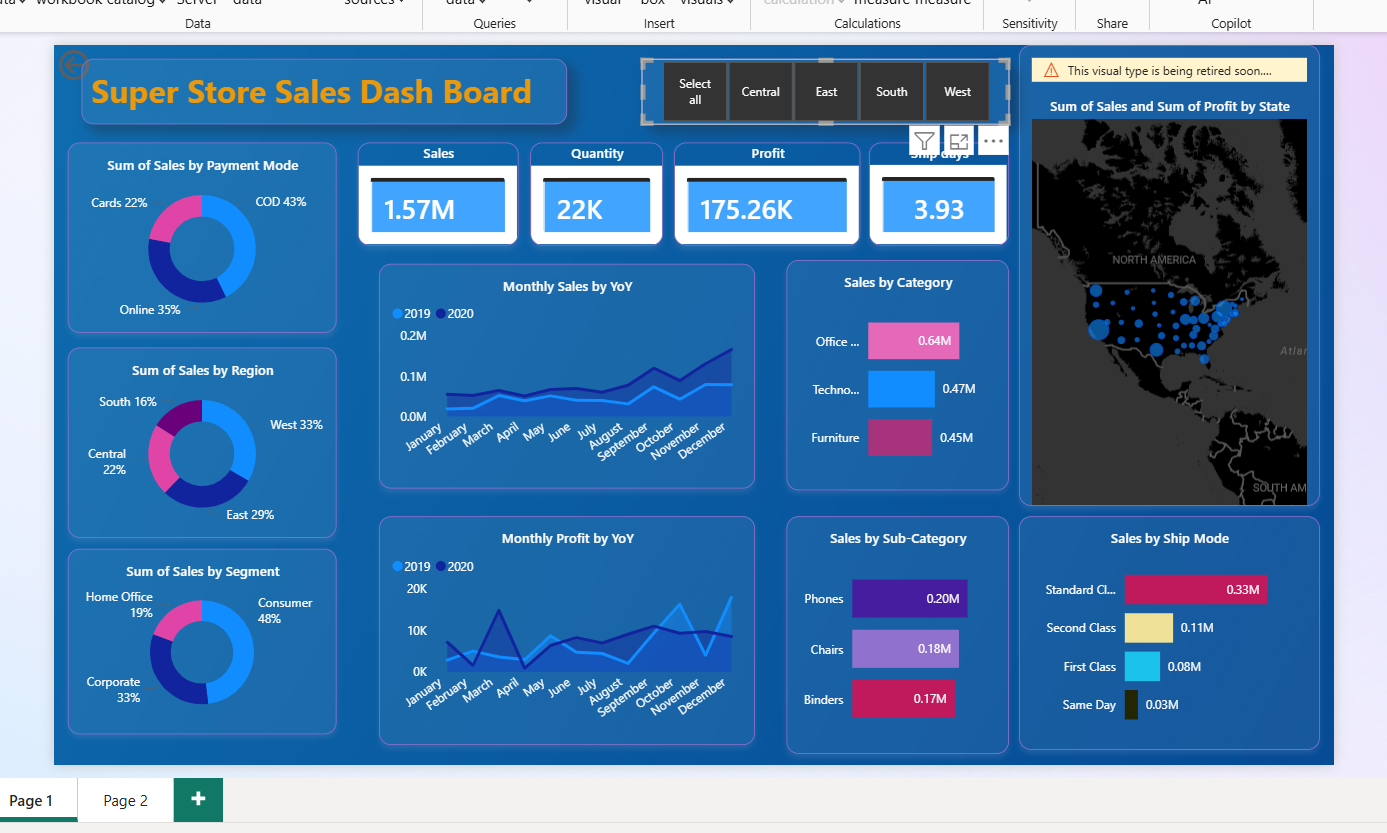

What the dashboard file says about the page in this screenshot:
{"tool":"powerbi","page":{"name":"Page 1","canvas":[1280,720],"ordinal":0},"visuals":[{"type":"clusteredBarChart","title":"Sales by Category","fields":{"Category":["SuperStore_Sales_Dataset.Category"],"Y":["Sum(SuperStore_Sales_Dataset.Sales)"]},"box":[732.8,215.4,222.3,230.5],"z":0},{"type":"clusteredBarChart","title":"Sales by Sub-Category","fields":{"Category":["SuperStore_Sales_Dataset.Sub-Category"],"Y":["Sum(SuperStore_Sales_Dataset.Sales)"]},"box":[732.8,470.7,222.3,237.4],"z":1000},{"type":"clusteredBarChart","title":"Sales by Ship Mode","fields":{"Category":["SuperStore_Sales_Dataset.Ship Mode"],"Y":["Sum(SuperStore_Sales_Dataset.Sales)"]},"box":[964.7,470.7,300.5,233.3],"z":2000},{"type":"actionButton","box":[0,0,100,40],"z":3000},{"type":"areaChart","title":"Monthly Sales by YoY","fields":{"Category":["SuperStore_Sales_Dataset.Order Date.Variation.Date Hierarchy.Month","SuperStore_Sales_Dataset.Order Date.Variation.Date Hierarchy.Day"],"Y":["Sum(SuperStore_Sales_Dataset.Sales)"],"Series":["SuperStore_Sales_Dataset.Order Date.Variation.Date Hierarchy.Year"]},"box":[325.2,218.2,376,225],"z":4000},{"type":"areaChart","title":"Monthly Profit by YoY","fields":{"Category":["SuperStore_Sales_Dataset.Order Date.Variation.Date Hierarchy.Month","SuperStore_Sales_Dataset.Order Date.Variation.Date Hierarchy.Day"],"Series":["SuperStore_Sales_Dataset.Order Date.Variation.Date Hierarchy.Year"],"Y":["Sum(SuperStore_Sales_Dataset.Profit)"]},"box":[325.2,470.7,376,229.2],"z":5000},{"type":"map","fields":{"Category":["SuperStore_Sales_Dataset.State"],"Size":["Sum(SuperStore_Sales_Dataset.Sales)"]},"box":[964.7,0,300.5,461.1],"z":6000},{"type":"donutChart","fields":{"Category":["SuperStore_Sales_Dataset.Segment"],"Y":["Sum(SuperStore_Sales_Dataset.Sales)"]},"box":[13.7,503.6,269,185.2],"z":7000},{"type":"donutChart","fields":{"Y":["Sum(SuperStore_Sales_Dataset.Sales)"],"Category":["SuperStore_Sales_Dataset.Payment Mode"]},"box":[13.7,97.4,269,190.7],"z":8000},{"type":"slicer","fields":{"Values":["SuperStore_Sales_Dataset.Region"]},"box":[587.3,13.7,367.8,65.9],"z":9000},{"type":"textbox","box":[27.4,13.7,485.8,65.9],"z":10000},{"type":"cardVisual","title":"Sales","fields":{"Data":["Sum(SuperStore_Sales_Dataset.Sales)"]},"box":[303.3,97.4,160.5,102.9],"z":11000},{"type":"cardVisual","title":"Quantity","fields":{"Data":["Sum(SuperStore_Sales_Dataset.Quantity)"]},"box":[476.2,97.4,133.1,102.9],"z":12000},{"type":"cardVisual","title":"Profit","fields":{"Data":["Sum(SuperStore_Sales_Dataset.Profit)"]},"box":[620.2,97.4,186.6,102.9],"z":13000},{"type":"cardVisual","title":"Ship days","fields":{"Data":["Avg(SuperStore_Sales_Dataset.AvgDelivery)"]},"box":[815.1,97.4,140,102.9],"z":14000},{"type":"donutChart","fields":{"Y":["Sum(SuperStore_Sales_Dataset.Sales)"],"Category":["SuperStore_Sales_Dataset.Region"]},"box":[13.7,301.9,269,190.7],"z":14001}]}

Visuals, with their boxes on the page's 1280x720 design canvas (x1, y1, x2, y2). These are canvas units, not pixel positions in the 1387x833 screenshot, which may show the page scaled, cropped or inside an application window:
"Sales by Category" clusteredBarChart: box=[733, 215, 955, 446]
"Sales by Sub-Category" clusteredBarChart: box=[733, 471, 955, 708]
"Sales by Ship Mode" clusteredBarChart: box=[965, 471, 1265, 704]
actionButton: box=[0, 0, 100, 40]
"Monthly Sales by YoY" areaChart: box=[325, 218, 701, 443]
"Monthly Profit by YoY" areaChart: box=[325, 471, 701, 700]
map - SuperStore_Sales_Dataset.State x Sum(SuperStore_Sales_Dataset.Sales): box=[965, 0, 1265, 461]
donutChart - SuperStore_Sales_Dataset.Segment x Sum(SuperStore_Sales_Dataset.Sales): box=[14, 504, 283, 689]
donutChart - Sum(SuperStore_Sales_Dataset.Sales) x SuperStore_Sales_Dataset.Payment Mode: box=[14, 97, 283, 288]
slicer - SuperStore_Sales_Dataset.Region: box=[587, 14, 955, 80]
textbox: box=[27, 14, 513, 80]
"Sales" cardVisual: box=[303, 97, 464, 200]
"Quantity" cardVisual: box=[476, 97, 609, 200]
"Profit" cardVisual: box=[620, 97, 807, 200]
"Ship days" cardVisual: box=[815, 97, 955, 200]
donutChart - Sum(SuperStore_Sales_Dataset.Sales) x SuperStore_Sales_Dataset.Region: box=[14, 302, 283, 493]
